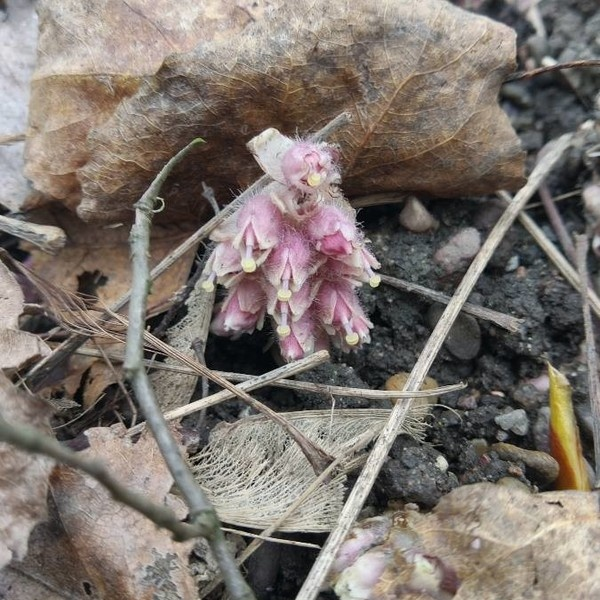obstacle: (26, 0, 519, 214)
